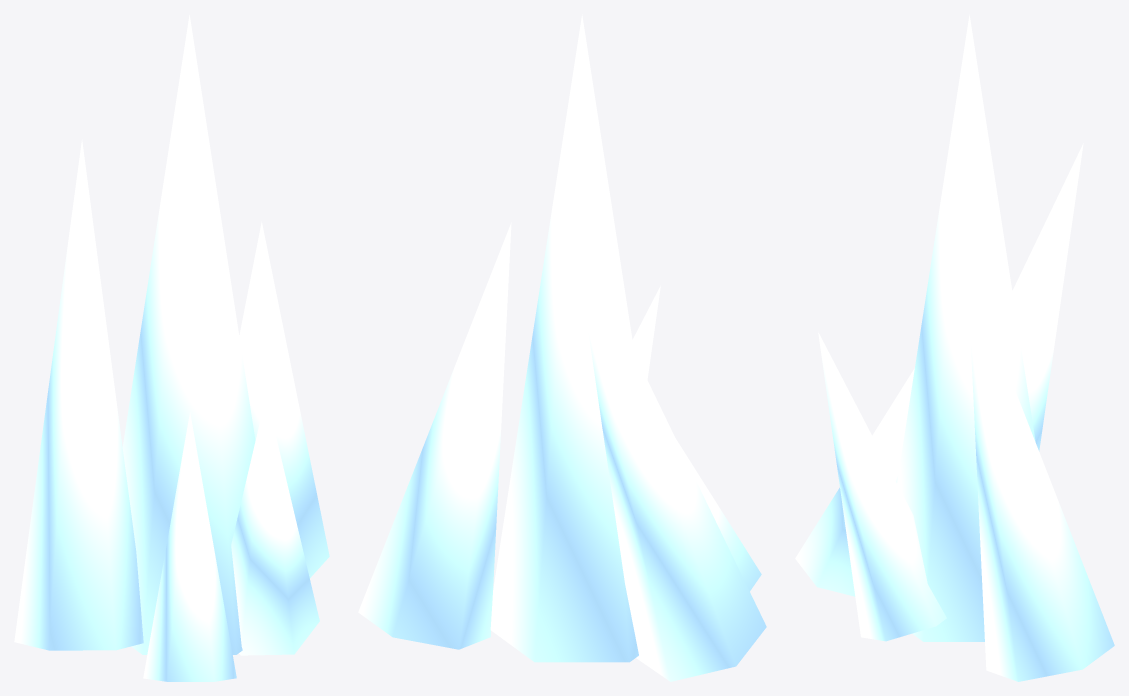
File: ice_spike.glb
3 views of the same model, side by side, from view 1: azimuth 30°, elevation 25°; view 2: azimuth 150°, elevation 25°; view 3: azimuth 270°, elevation 25° (orthographic). The views are drawn at different scales.
Visible parts, largest first — view 1: IceSpike; view 2: IceSpike; view 3: IceSpike.
Part boxes in pixels (x1,y1,x2,y2): IceSpike: (14,15,329,681); IceSpike: (358,14,766,681); IceSpike: (795,14,1114,681).
Bounding box in the file's own units: 2.84 × 5.06 × 2.44.
